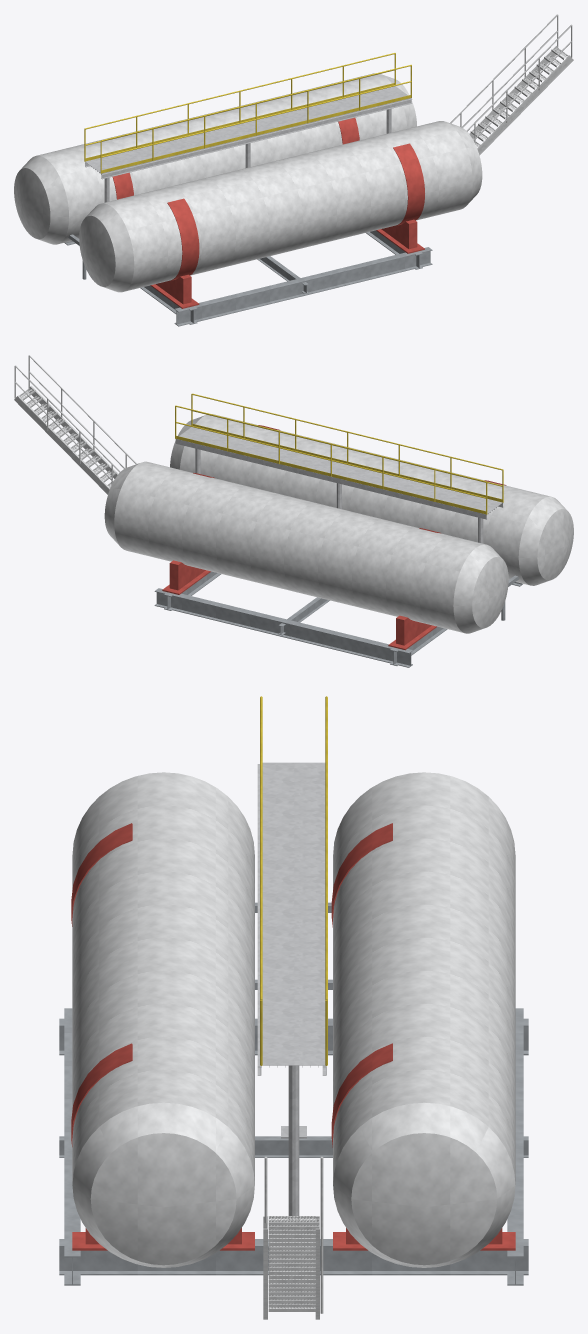
Rendered from hydrogen-storage-tank-supports-and-access.glb.
3 views of the same model, one above another, from view 1: azimuth 30°, elevation 25°; view 2: azimuth 150°, elevation 25°; view 3: azimuth 270°, elevation 25° (orthographic). The views are drawn at different scales.
Visible parts, largest first — view 1: HydrogenBullets(context), TopWalkway, BaseFrame, Saddles&WearPlates, Handrails, AccessStair; view 2: HydrogenBullets(context), TopWalkway, BaseFrame, Handrails, AccessStair, Saddles&WearPlates; view 3: HydrogenBullets(context), TopWalkway, BaseFrame, Saddles&WearPlates, AccessStair, Handrails.
Boxes of the visible parts, x1=… form: HydrogenBullets(context): x1=14, y1=73, x2=482, y2=292; TopWalkway: x1=85, y1=86, x2=412, y2=202; BaseFrame: x1=64, y1=230, x2=432, y2=326; Saddles&WearPlates: x1=112, y1=117, x2=424, y2=308; Handrails: x1=84, y1=53, x2=411, y2=173; AccessStair: x1=450, y1=14, x2=573, y2=155; HydrogenBullets(context): x1=104, y1=414, x2=573, y2=633; TopWalkway: x1=175, y1=427, x2=503, y2=543; BaseFrame: x1=154, y1=571, x2=522, y2=667; Handrails: x1=175, y1=393, x2=503, y2=514; AccessStair: x1=14, y1=355, x2=136, y2=494; Saddles&WearPlates: x1=162, y1=425, x2=506, y2=650; HydrogenBullets(context): x1=72, y1=772, x2=515, y2=1267; TopWalkway: x1=257, y1=762, x2=326, y2=1219; BaseFrame: x1=59, y1=1008, x2=528, y2=1285; Saddles&WearPlates: x1=71, y1=823, x2=515, y2=1250; AccessStair: x1=263, y1=1156, x2=323, y2=1319; Handrails: x1=260, y1=696, x2=327, y2=1065.
Bounding box in the file's own units: 18.08 × 5.4 × 7.2.
6 materials, 6 textured.
